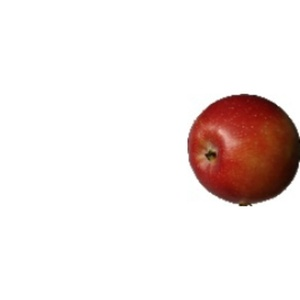maçã braeburn: (184, 91, 300, 207)
